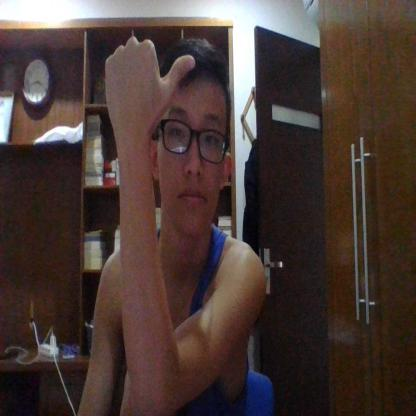left: (104, 35, 196, 145)
